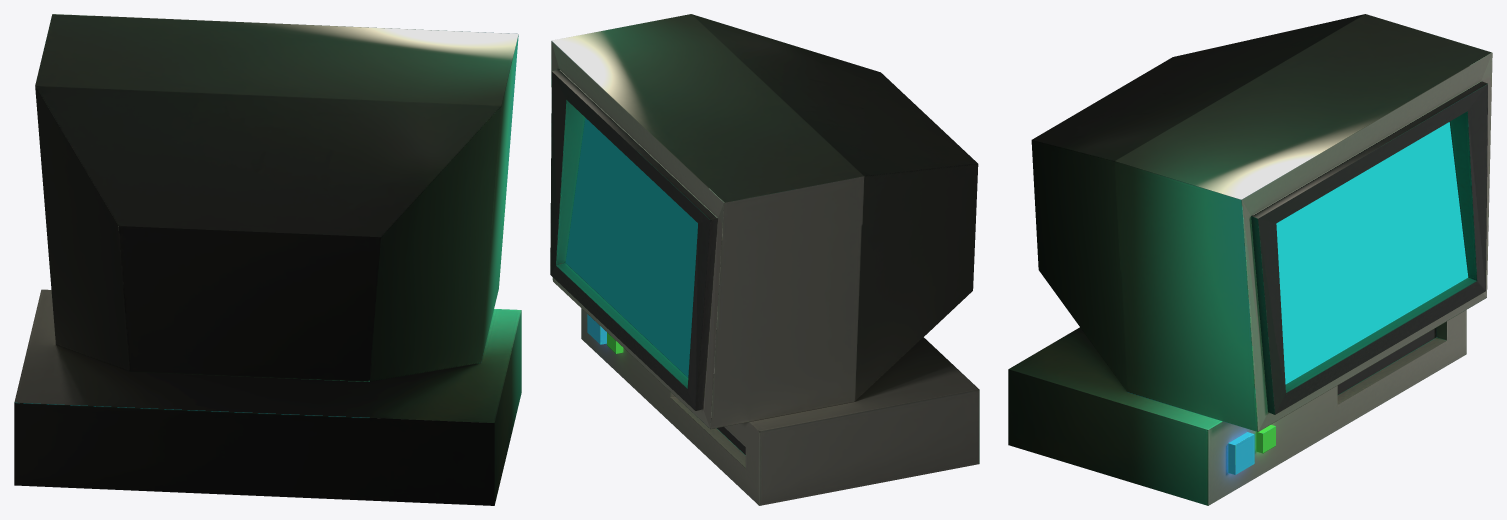
File: monitor3.fbx
3 renders of one model, left to right at view 1: azimuth 30°, elevation 25°; view 2: azimuth 150°, elevation 25°; view 3: azimuth 270°, elevation 25°, orthographic. The views are drawn at different scales.
Parts seen in each view (by area): view 1: Ordenador3; view 2: Ordenador3; view 3: Ordenador3.
Boxes of the visible parts, x1,y1,x2,y2 form: Ordenador3: [14, 14, 521, 505]; Ordenador3: [550, 14, 979, 505]; Ordenador3: [1008, 14, 1492, 505].
Size of the model in its own units: 34.66 by 32.35 by 23.07.
Materials: 1 (1 with a texture image).
